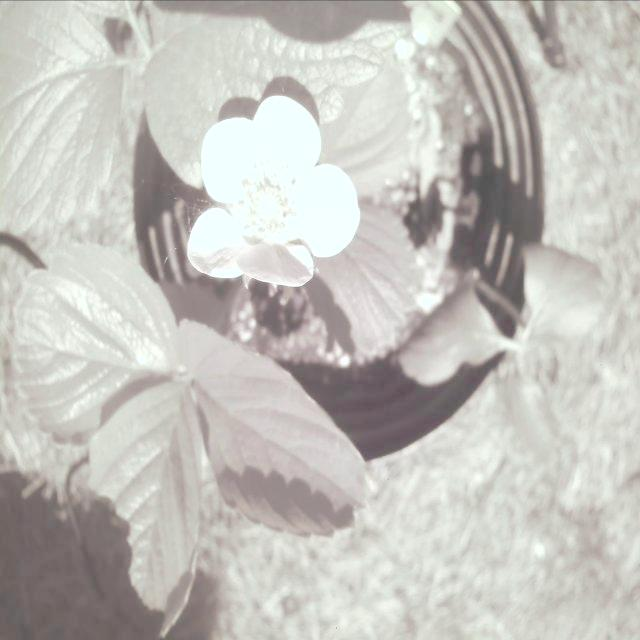flower: (181, 84, 367, 294)
